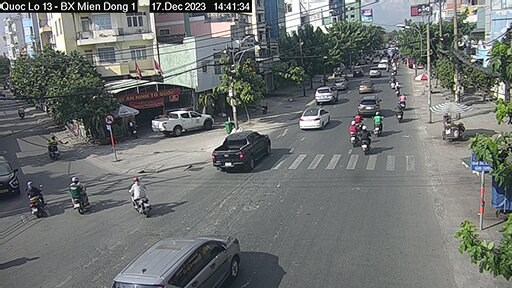car: (122, 233, 240, 288), (211, 129, 271, 171), (151, 108, 213, 135), (293, 106, 329, 128), (313, 85, 340, 104), (359, 95, 381, 115), (356, 80, 380, 98), (369, 68, 385, 81), (352, 67, 365, 77)
motorbike: (127, 177, 157, 217), (67, 176, 94, 216), (25, 179, 49, 217), (46, 133, 63, 161), (359, 124, 372, 156), (372, 112, 387, 138), (347, 121, 360, 148), (393, 102, 405, 121)
